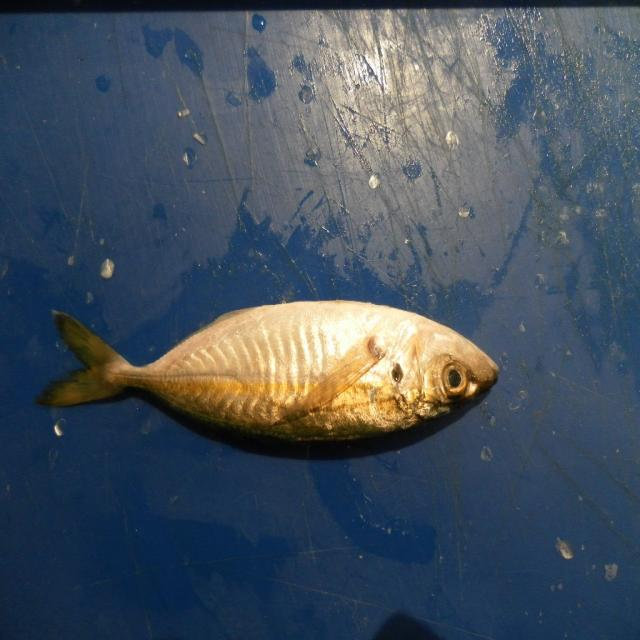Hourse-Mackerel-istavrit-: (34, 301, 501, 461)
